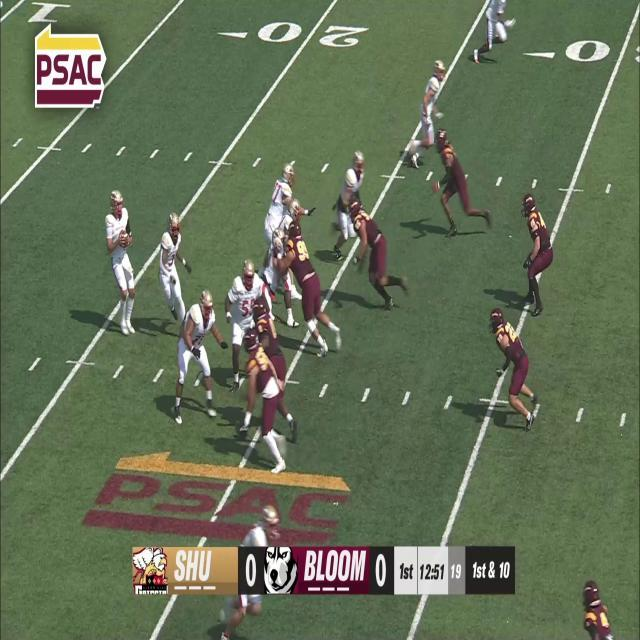football: (120, 228, 130, 248)
